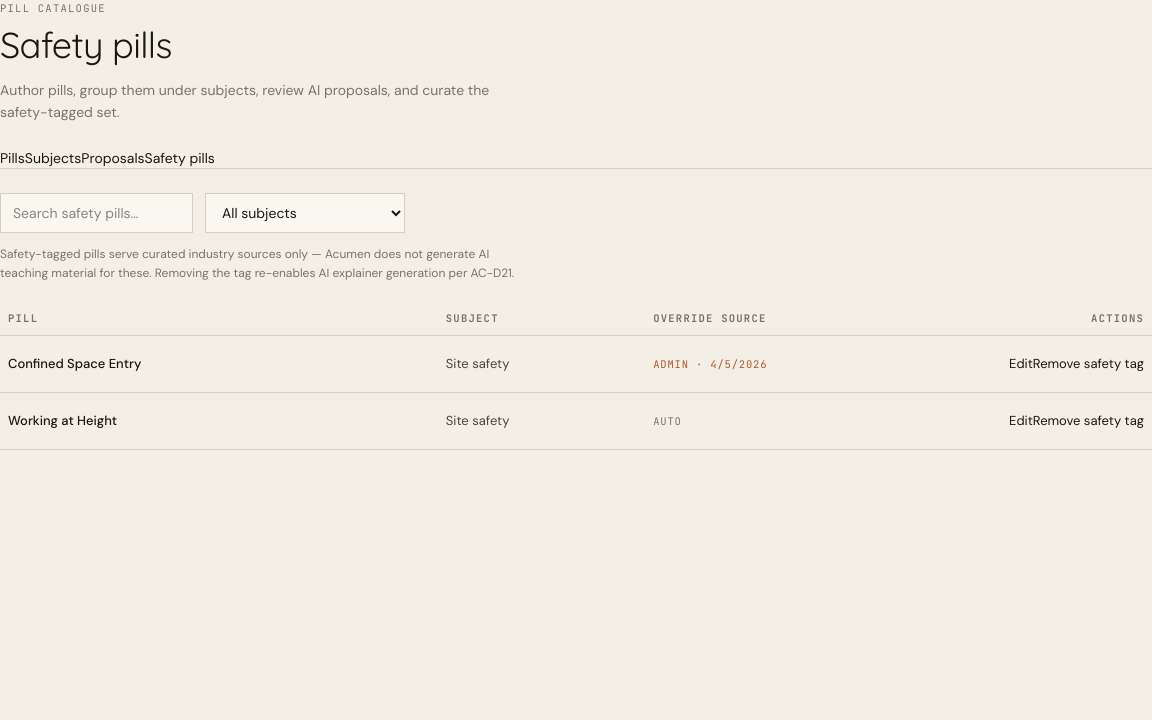
Test: safety tab — remove safety tag confirmation flow › opens the confirm modal on 'Remove safety tag' click
Expected: the text "Confined Space Entry" is shown, x1=0 y1=335 x2=438 y2=392
Click the button "Remove safety tag" in the row of "Confined Space Entry" at (1088, 364), box x1=1033 y1=346 x2=1144 y2=382
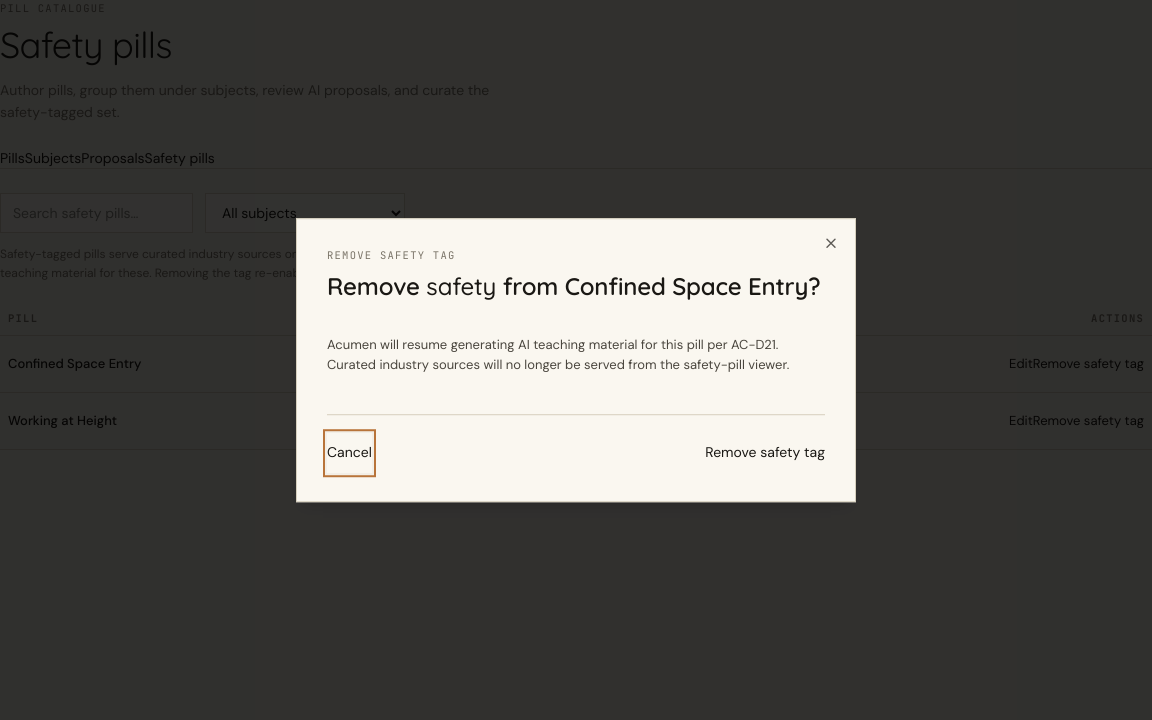
Expected: the button with test id "safety-untag-confirm" is shown, x1=705 y1=433 x2=825 y2=473
